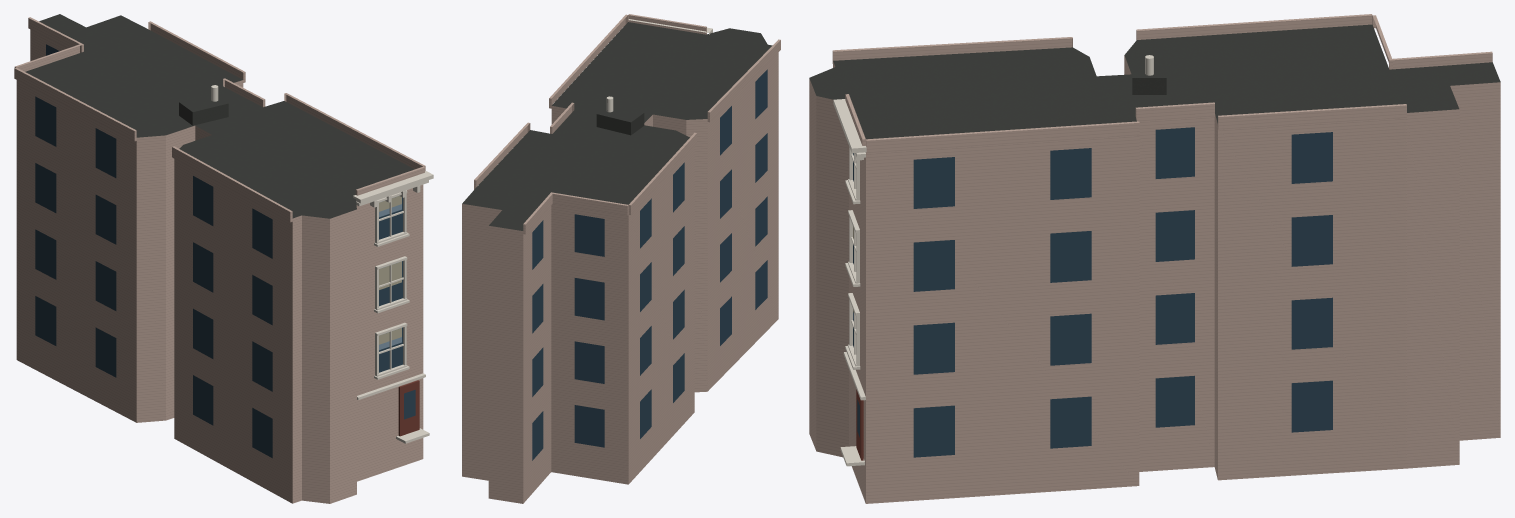
The picture shows the model from 3 angles, left to right: view 1: azimuth 30°, elevation 25°; view 2: azimuth 150°, elevation 25°; view 3: azimuth 270°, elevation 25°; orthographic projection. The views are drawn at different scales.
Visible parts, largest first — view 1: Footprint 0 / surface 2, Footprint 0 / surface 1, Inset glazing, Facade bay volumes, Cornices and window frames, Interior blind variation, Storefronts and doors, Inferred rooftop service enclosure / surface 5, Inferred rooftop service enclosure / surface 3; view 2: Footprint 0 / surface 2, Footprint 0 / surface 1, Inset glazing, Facade bay volumes, Inferred rooftop service enclosure / surface 6, Inferred rooftop service enclosure / surface 3; view 3: Footprint 0 / surface 2, Footprint 0 / surface 1, Inset glazing, Facade bay volumes, Cornices and window frames.
Boxes of the visible parts, x1,y1,x2,y2 form: Footprint 0 / surface 2: [16, 29, 423, 503]; Footprint 0 / surface 1: [25, 14, 414, 218]; Inset glazing: [35, 44, 415, 458]; Facade bay volumes: [14, 17, 425, 222]; Cornices and window frames: [353, 171, 433, 443]; Interior blind variation: [379, 196, 401, 344]; Storefronts and doors: [398, 380, 419, 436]; Inferred rooftop service enclosure / surface 5: [192, 103, 228, 125]; Inferred rooftop service enclosure / surface 3: [179, 94, 228, 111]; Footprint 0 / surface 2: [462, 52, 778, 503]; Footprint 0 / surface 1: [462, 22, 772, 230]; Inset glazing: [532, 69, 767, 460]; Facade bay volumes: [474, 14, 780, 234]; Inferred rooftop service enclosure / surface 6: [596, 114, 630, 135]; Inferred rooftop service enclosure / surface 3: [597, 105, 643, 122]; Footprint 0 / surface 2: [809, 55, 1500, 503]; Footprint 0 / surface 1: [809, 24, 1500, 139]; Inset glazing: [853, 127, 1332, 457]; Facade bay volumes: [832, 14, 1492, 153]; Cornices and window frames: [833, 99, 866, 466].
Bounding box in the file's own units: 10.57 × 14.98 × 24.11.
